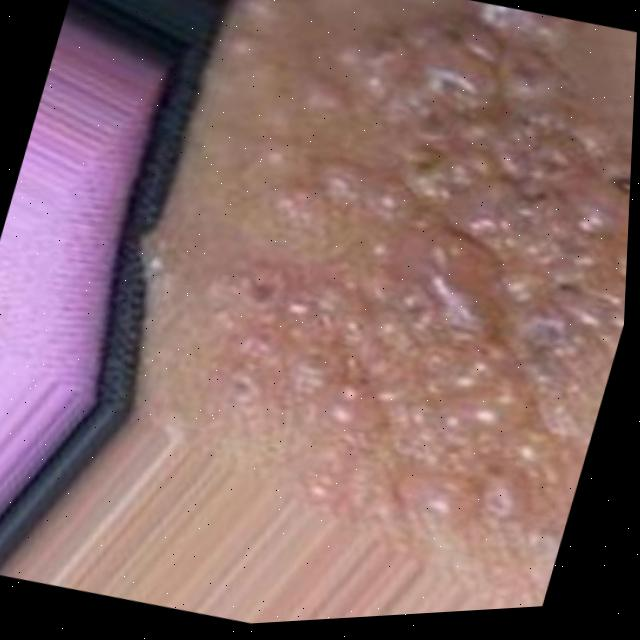Shingles: (201, 0, 640, 551)
